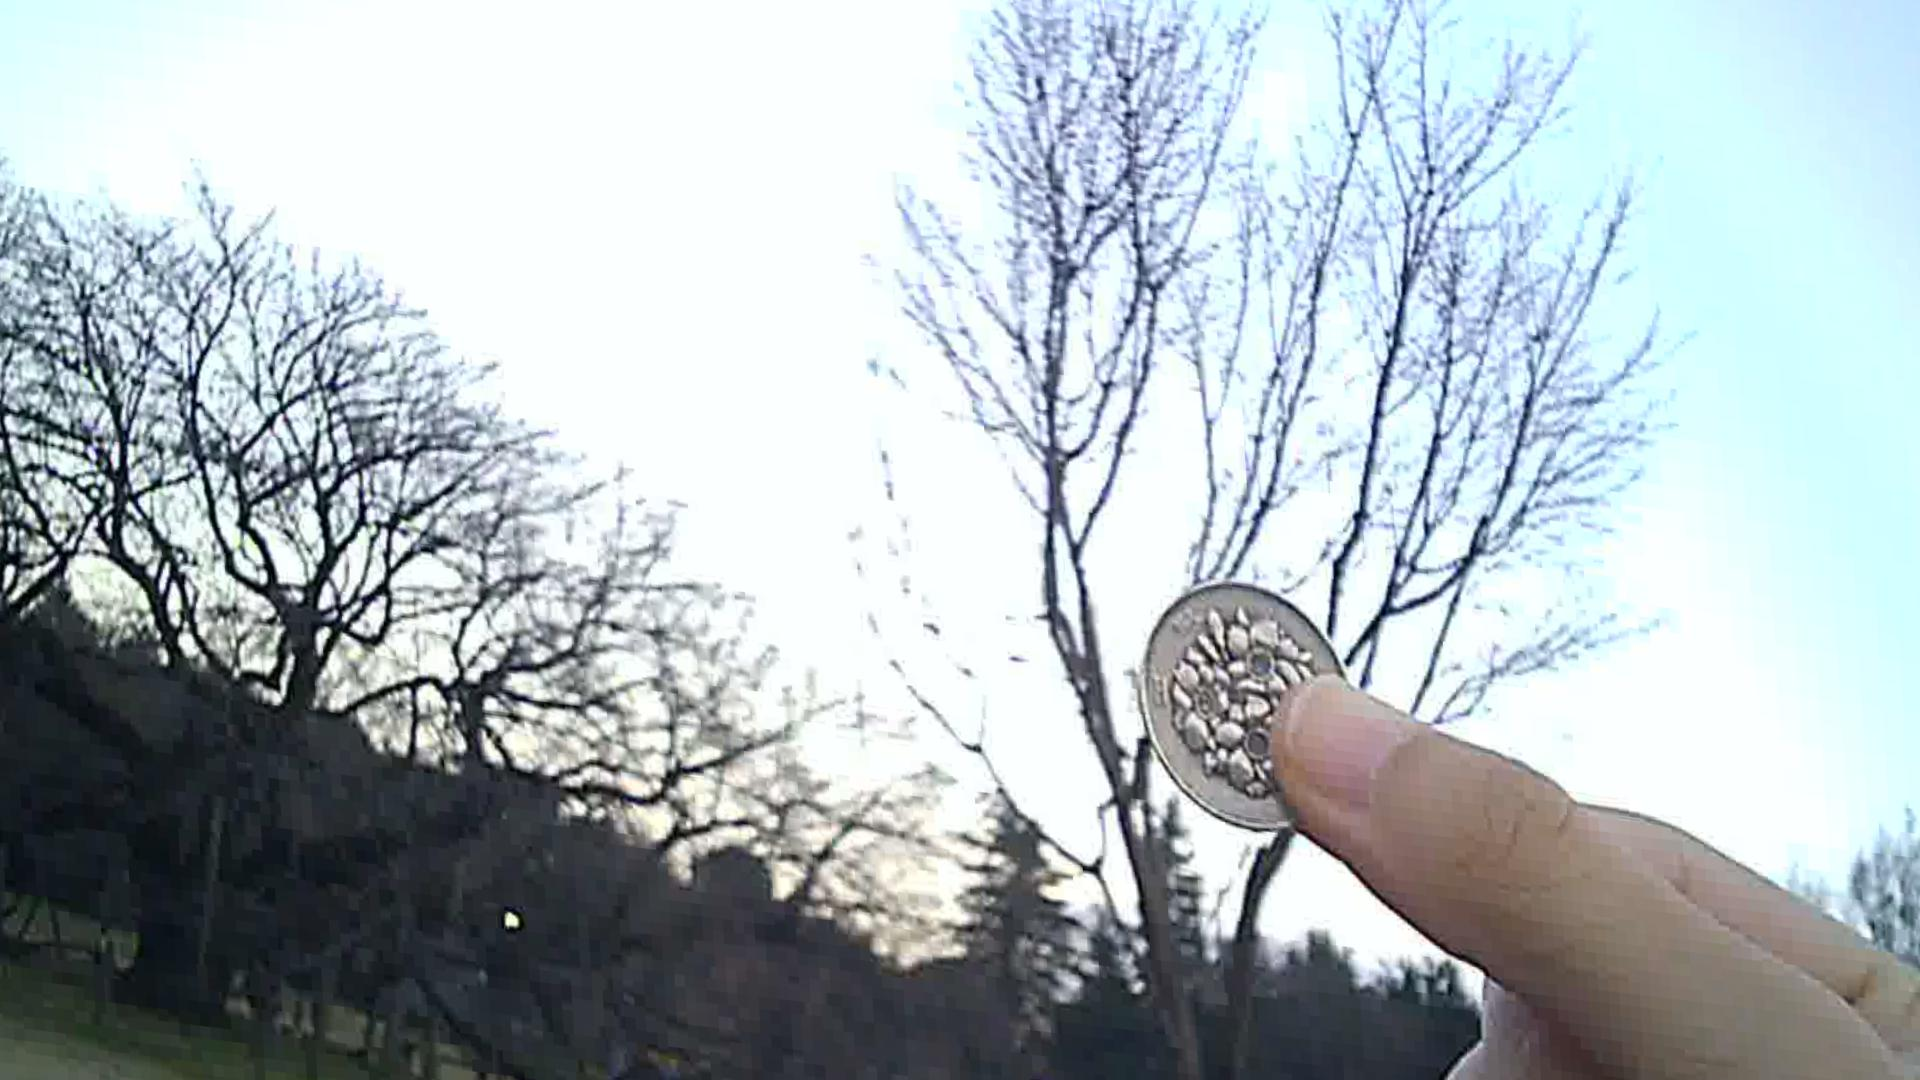100 Yen: (1141, 582, 1362, 839)
